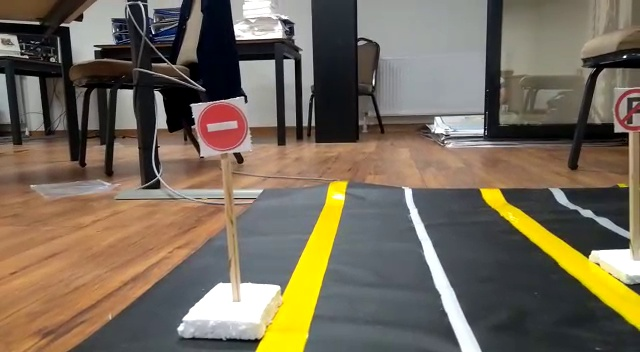girisi_olmayan_yol: (194, 96, 247, 154)
park_yapilmaz: (615, 84, 640, 131)
